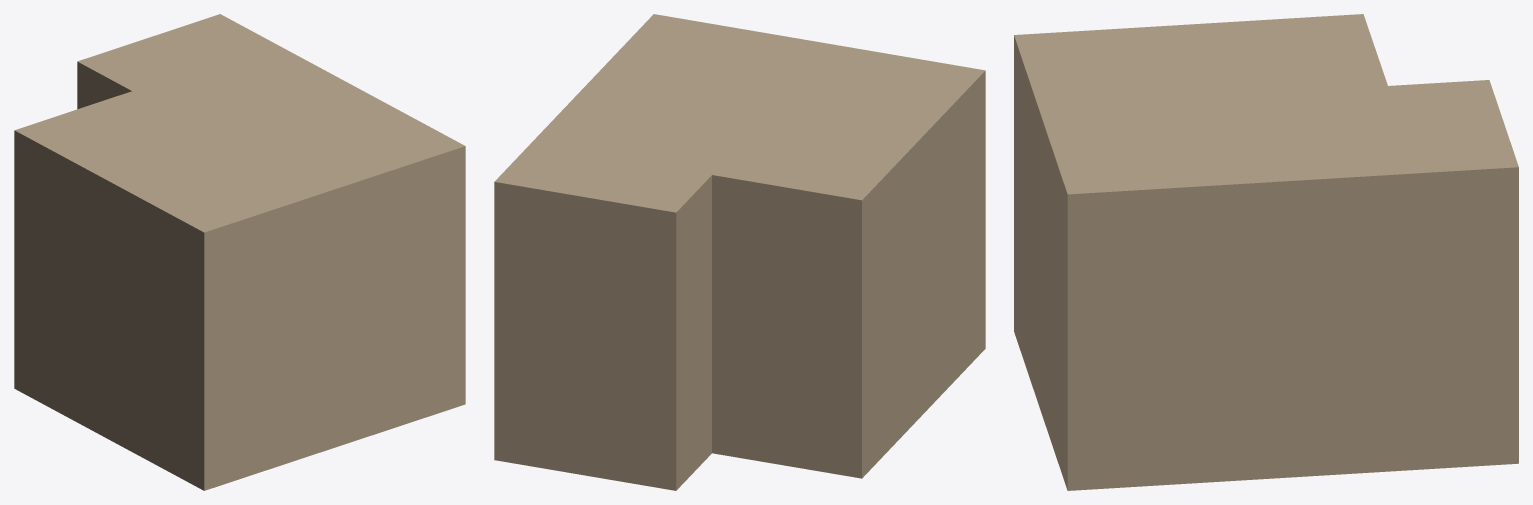
The model's file is bld_109034854.dae.
3 renders of one model, left to right at view 1: azimuth 30°, elevation 25°; view 2: azimuth 150°, elevation 25°; view 3: azimuth 270°, elevation 25°, orthographic. The views are drawn at different scales.
Parts seen in each view (by area): view 1: bld_109034854; view 2: bld_109034854; view 3: bld_109034854.
Part boxes in pixels (x1,y1,x2,y2): bld_109034854: [14, 14, 465, 490]; bld_109034854: [494, 14, 985, 490]; bld_109034854: [1014, 14, 1518, 490].
Bounding box in the file's own units: 10.44 × 12.35 × 8.
